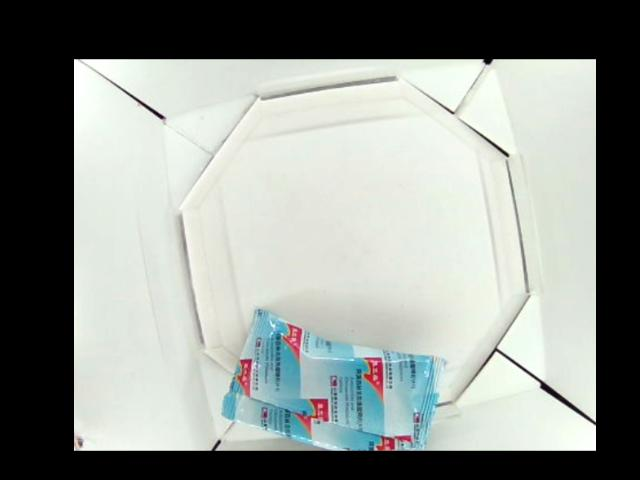Medicine: (223, 302, 447, 450)
